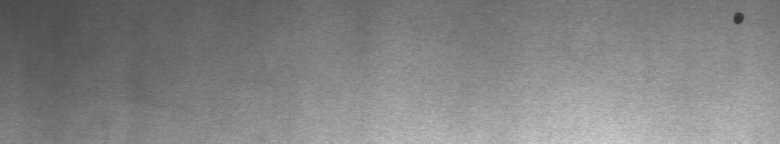fi: (728, 6, 749, 32)
